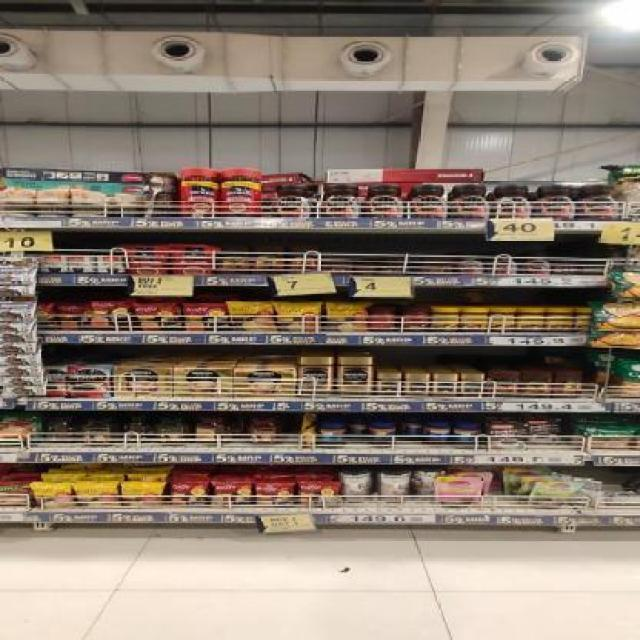Coffee: (336, 358, 374, 398), (297, 357, 334, 398), (580, 185, 622, 220), (319, 184, 362, 218), (534, 185, 577, 219), (492, 186, 535, 220), (449, 185, 490, 219), (408, 185, 448, 219), (365, 185, 404, 219), (272, 185, 312, 218), (69, 367, 108, 396), (456, 252, 483, 273), (489, 253, 516, 274), (461, 374, 484, 397), (525, 253, 550, 274), (553, 259, 583, 276), (406, 374, 428, 397), (379, 373, 400, 396), (435, 374, 456, 396), (583, 260, 610, 276)
